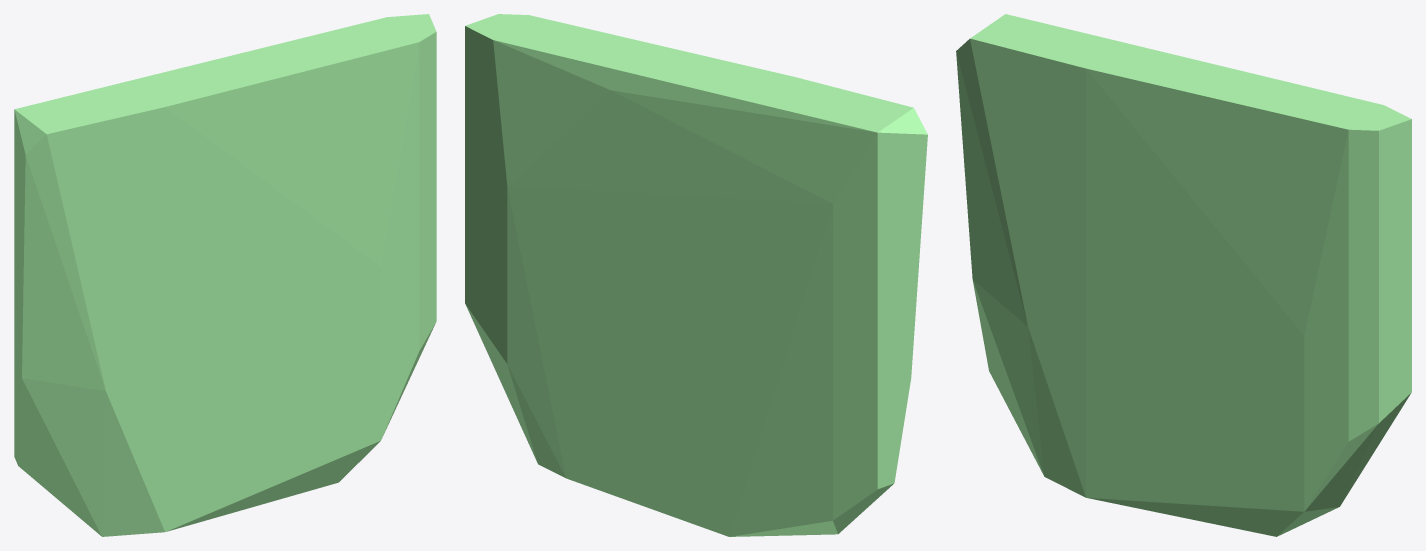
Rendered from dxxx_robot_base_coll_1.dae.
The picture shows the model from 3 angles, left to right: view 1: azimuth 30°, elevation 25°; view 2: azimuth 150°, elevation 25°; view 3: azimuth 330°, elevation 25°; orthographic projection. The views are drawn at different scales.
Visible parts, largest first — view 1: Node_000001D818CBBB90; view 2: Node_000001D818CBBB90; view 3: Node_000001D818CBBB90.
Boxes of the visible parts, x1,y1,x2,y2 form: Node_000001D818CBBB90: [14, 14, 436, 536]; Node_000001D818CBBB90: [465, 14, 927, 536]; Node_000001D818CBBB90: [956, 14, 1411, 536].
Bounding box in the file's own units: 0.0854 × 0.0812 × 0.0142.
